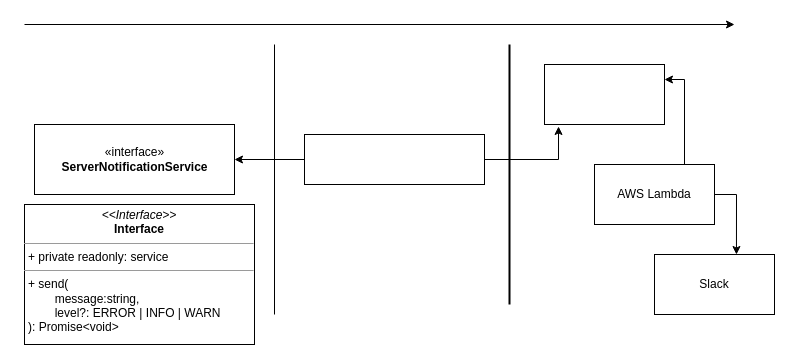
This 792x362 diagram has some shape labels left out. Here are the shapes that lost their labels. From the top down, the box of each, then its label:
(544, 64, 664, 124): AWS SNS
(304, 134, 484, 184): SNSService
